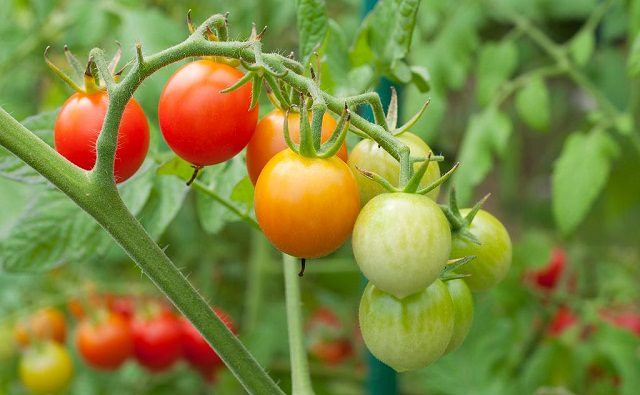stems: (342, 92, 391, 129), (381, 134, 412, 192), (306, 81, 330, 155), (86, 46, 115, 97), (280, 54, 305, 108), (194, 15, 234, 41), (437, 205, 464, 231)
tomato: (253, 146, 360, 258), (352, 191, 452, 301), (159, 60, 259, 166), (359, 276, 455, 374), (53, 87, 149, 184), (245, 106, 349, 187), (350, 131, 441, 208), (433, 209, 512, 292), (437, 269, 470, 357)
